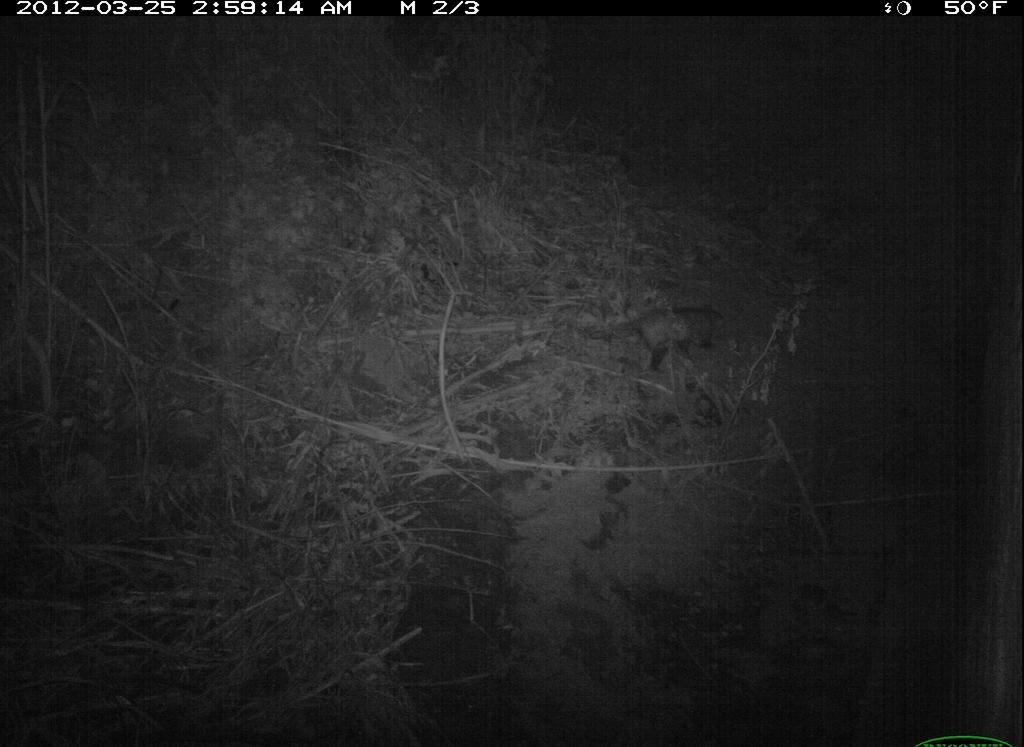opossum: (597, 301, 733, 374)
